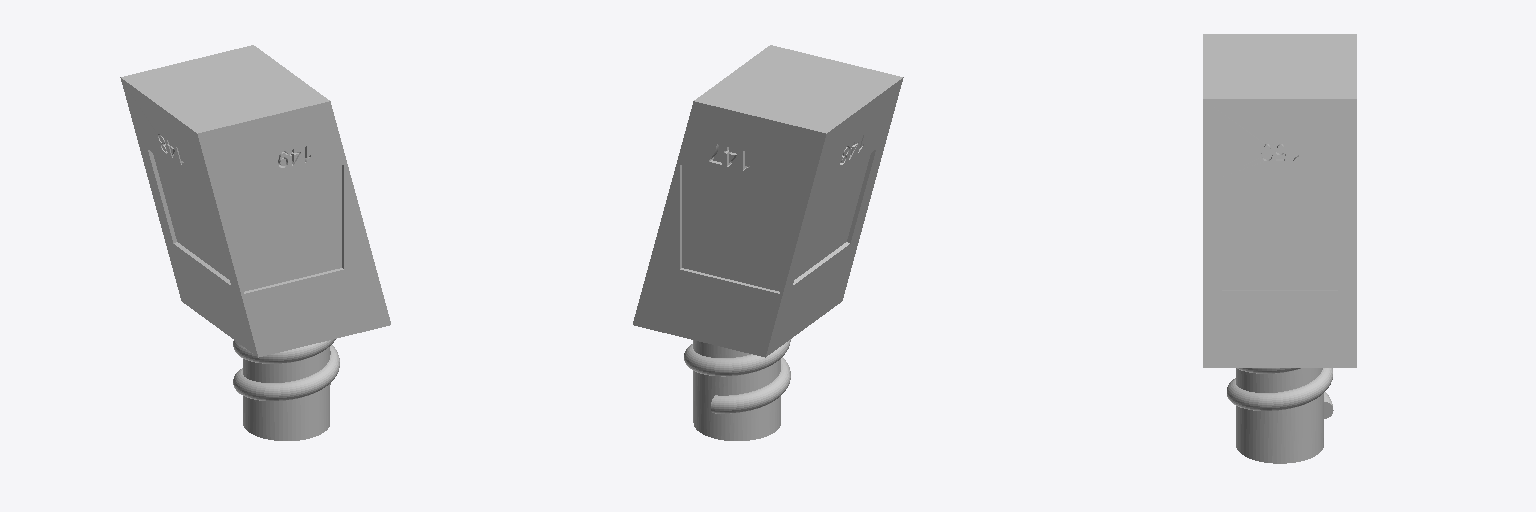
The model's file is stool_leg1.obj.
3 renders of one model, left to right at view 1: azimuth 30°, elevation 25°; view 2: azimuth 150°, elevation 25°; view 3: azimuth 270°, elevation 25°, orthographic.
Parts seen in each view (by area): view 1: stool_leg1_v5, stool_leg1_v5.003, stool_leg1_v5.002; view 2: stool_leg1_v5, stool_leg1_v5.001, stool_leg1_v5.002; view 3: stool_leg1_v5, stool_leg1_v5.004.
Boxes of the visible parts, x1,y1,x2,y2 form: stool_leg1_v5: [120, 45, 390, 440]; stool_leg1_v5.003: [244, 165, 343, 293]; stool_leg1_v5.002: [148, 150, 230, 284]; stool_leg1_v5: [633, 45, 903, 440]; stool_leg1_v5.001: [680, 165, 779, 293]; stool_leg1_v5.002: [793, 150, 875, 284]; stool_leg1_v5: [1203, 34, 1356, 463]; stool_leg1_v5.004: [1222, 177, 1337, 290].
Bounding box in the file's own units: 0.0511 × 0.0875 × 0.035.